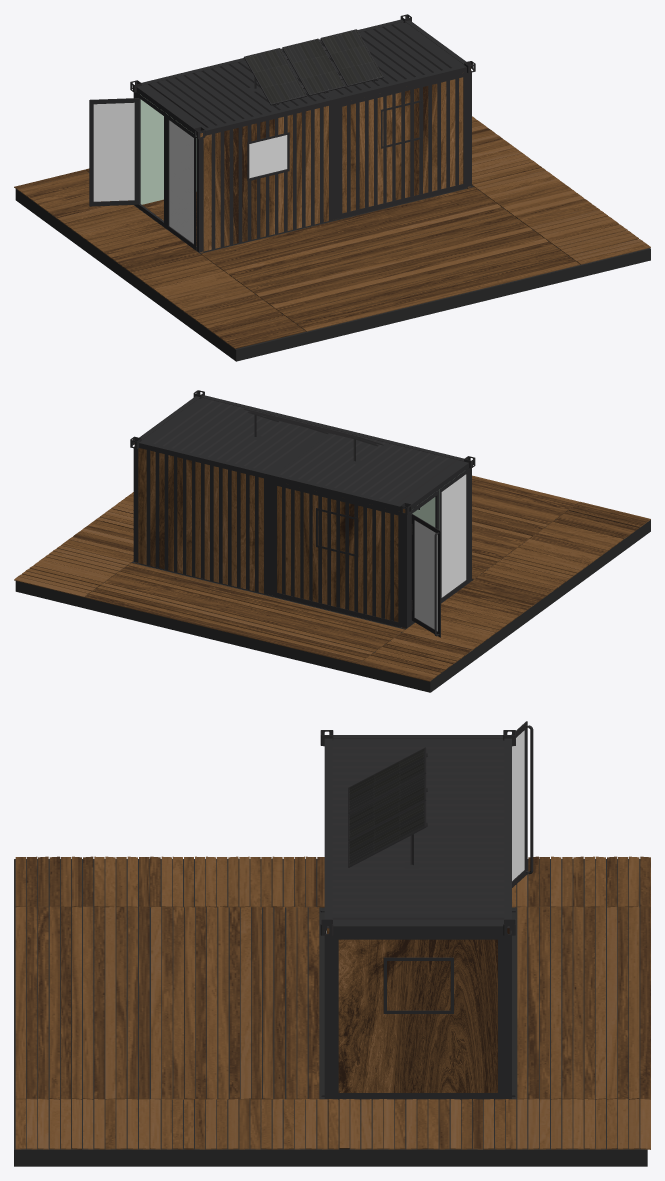
Rendered from solo-haven.glb.
The picture shows the model from 3 angles, top to bottom: view 1: azimuth 30°, elevation 25°; view 2: azimuth 150°, elevation 25°; view 3: azimuth 270°, elevation 25°; orthographic projection. The views are drawn at different scales.
Parts seen in each view (by area): view 1: base, model_1_container_1_exterior_sealing_metal, model_1_container_1_wall_2_window_finish_wood, model_1_container_1_wall_1_none_finish_wood, model_1_container_1_wall_2_window_exterior_metal, model_1_container_1_edges_metal, model_1_solar_panel_1_solar_semic, model_1_container_1_wall_1_none_exterior_metal, model_1_container_1_wall_3_door_left_glass, model_1_container_1_wall_3_door_right_glass, model_1_container_1_wall_4_none_interior_paper, model_1_container_1_wall_1_balcony_frame_metal (+6 smaller); view 2: base, model_1_container_1_exterior_sealing_metal, model_1_container_1_wall_5_none_finish_wood, model_1_container_1_wall_4_none_finish_wood, model_1_container_1_wall_5_none_exterior_metal, model_1_container_1_edges_metal, model_1_container_1_wall_4_none_exterior_metal, model_1_container_1_wall_3_door_right_glass, model_1_container_1_wall_3_door_left_glass, model_1_container_1_wall_4_balcony_frame_metal, model_1_container_1_wall_3_door_left_door_metal, model_1_support_metal (+5 smaller); view 3: base, model_1_container_1_exterior_sealing_metal, model_1_container_1_wall_6_none_finish_wood, model_1_container_1_edges_metal, model_1_solar_panel_1_solar_semic, model_1_container_1_wall_6_balcony_frame_metal, model_1_container_1_wall_3_door_left_glass, model_1_solar_panel_1_support_metal, model_1_container_1_wall_3_door_left_door_metal, model_1_container_1_wall_6_window_frame_metal.
Part boxes in pixels (x1,y1,x2,y2): base: [14, 116, 650, 361]; model_1_container_1_exterior_sealing_metal: [142, 22, 463, 132]; model_1_container_1_wall_2_window_finish_wood: [200, 106, 328, 252]; model_1_container_1_wall_1_none_finish_wood: [342, 77, 470, 213]; model_1_container_1_wall_2_window_exterior_metal: [200, 105, 332, 249]; model_1_container_1_edges_metal: [130, 14, 475, 253]; model_1_solar_panel_1_solar_semic: [245, 30, 382, 103]; model_1_container_1_wall_1_none_exterior_metal: [338, 78, 458, 218]; model_1_container_1_wall_3_door_left_glass: [93, 102, 134, 201]; model_1_container_1_wall_3_door_right_glass: [169, 120, 193, 243]; model_1_container_1_wall_4_none_interior_paper: [140, 94, 196, 204]; model_1_container_1_wall_1_balcony_frame_metal: [338, 72, 467, 218]; base: [14, 475, 650, 692]; model_1_container_1_exterior_sealing_metal: [141, 398, 463, 508]; model_1_container_1_wall_5_none_finish_wood: [135, 448, 263, 593]; model_1_container_1_wall_4_none_finish_wood: [277, 486, 405, 628]; model_1_container_1_wall_5_none_exterior_metal: [146, 450, 267, 594]; model_1_container_1_edges_metal: [130, 390, 475, 629]; model_1_container_1_wall_4_none_exterior_metal: [282, 487, 404, 620]; model_1_container_1_wall_3_door_right_glass: [441, 474, 466, 597]; model_1_container_1_wall_3_door_left_glass: [414, 520, 437, 631]; model_1_container_1_wall_4_balcony_frame_metal: [273, 480, 401, 626]; model_1_container_1_wall_3_door_left_door_metal: [411, 514, 440, 637]; model_1_support_metal: [267, 429, 334, 595]; base: [14, 856, 650, 1166]; model_1_container_1_exterior_sealing_metal: [327, 738, 509, 927]; model_1_container_1_wall_6_none_finish_wood: [327, 928, 509, 1099]; model_1_container_1_edges_metal: [320, 730, 515, 1101]; model_1_solar_panel_1_solar_semic: [349, 749, 424, 865]; model_1_container_1_wall_6_balcony_frame_metal: [332, 933, 504, 1099]; model_1_container_1_wall_3_door_left_glass: [512, 730, 524, 880]; model_1_solar_panel_1_support_metal: [348, 747, 427, 868]; model_1_container_1_wall_3_door_left_door_metal: [511, 721, 533, 887]; model_1_container_1_wall_6_window_frame_metal: [383, 957, 453, 1013].
Size of the model in its own units: 9.21 by 3.46 by 8.51.
Materials: 7 (3 with a texture image).
